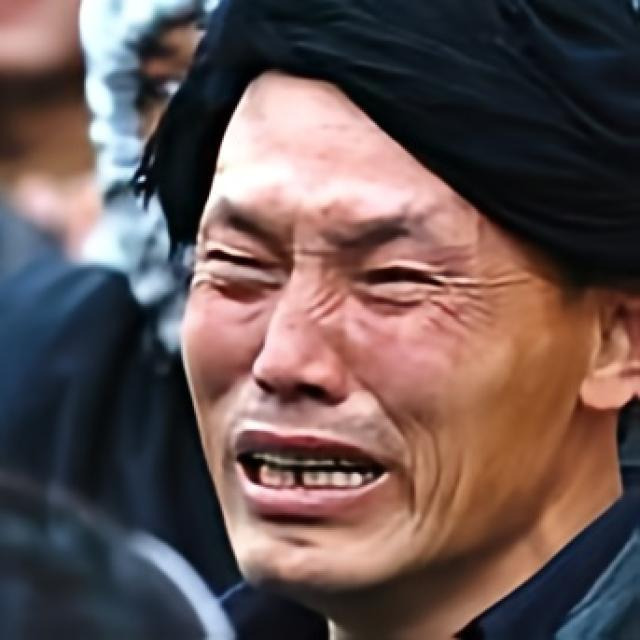sad: (180, 64, 576, 598)
